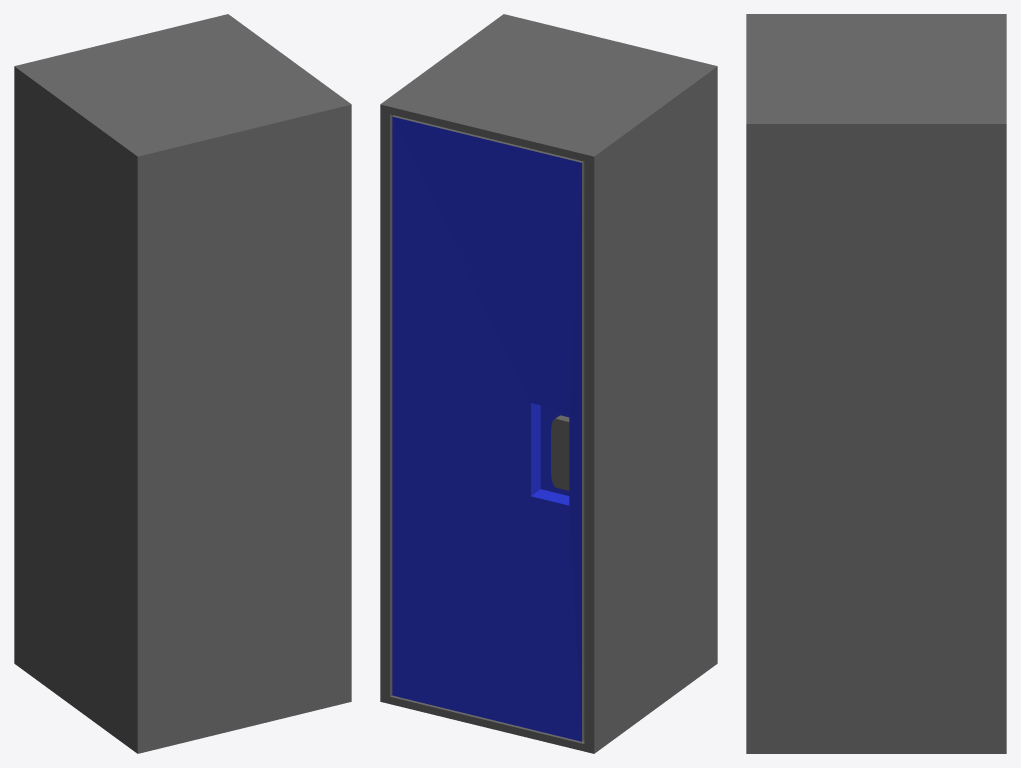
The model's file is casier.fbx.
The picture shows the model from 3 angles, left to right: view 1: azimuth 30°, elevation 25°; view 2: azimuth 150°, elevation 25°; view 3: azimuth 270°, elevation 25°; orthographic projection. The views are drawn at different scales.
Visible parts, largest first — view 1: Cube; view 2: Cube; view 3: Cube.
Boxes of the visible parts, box(x1,y1,x2,y2) form: Cube: box(14, 14, 351, 753); Cube: box(380, 14, 717, 753); Cube: box(746, 14, 1006, 753).
Bounding box in the file's own units: 75 × 200 × 75.
